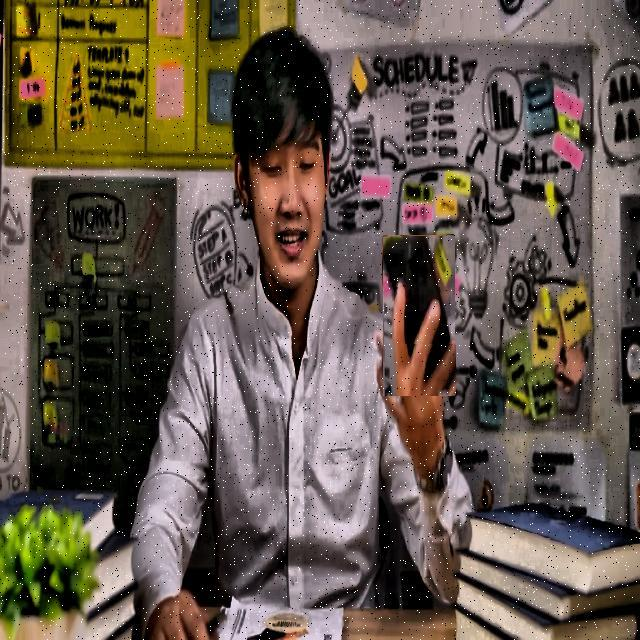Phone: (382, 235, 456, 396)
